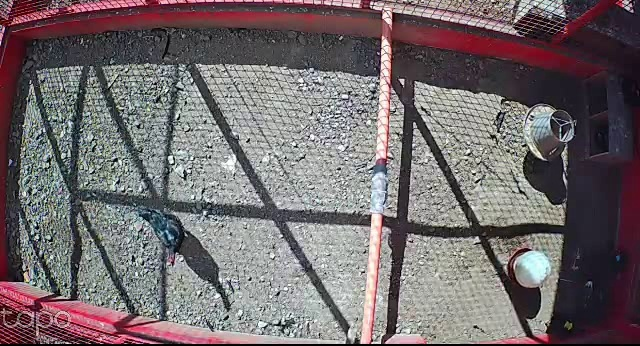Chicken: (134, 203, 193, 270), (537, 305, 588, 342)
Drinker: (507, 248, 550, 290)
Feeder: (520, 101, 580, 168)
Saddle_Color_Yellow: (563, 321, 575, 330)
